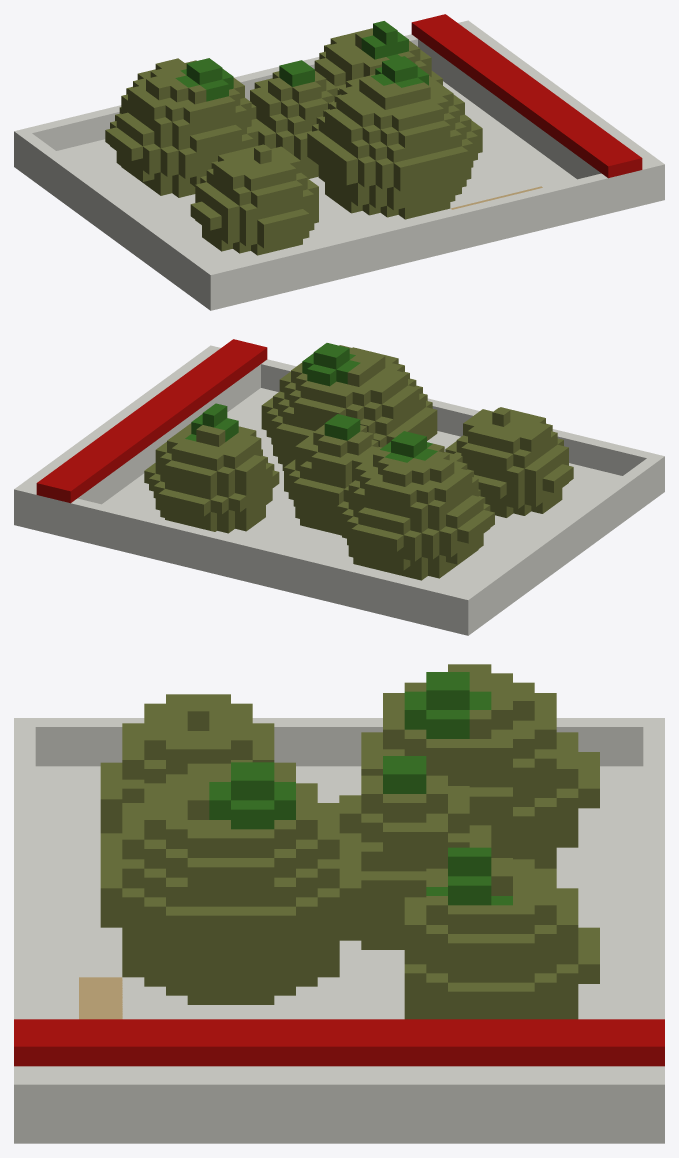
Rendered from cannabis.glb.
3 renders of one model, top to bottom at view 1: azimuth 30°, elevation 25°; view 2: azimuth 150°, elevation 25°; view 3: azimuth 270°, elevation 25°, orthographic. The views are drawn at different scales.
Parts seen in each view (by area): view 1: cannabis:compound; view 2: cannabis:compound; view 3: cannabis:compound.
Part boxes in pixels (x1,y1,x2,y2): cannabis:compound: (14,14,664,310); cannabis:compound: (14,339,664,635); cannabis:compound: (14,664,664,1143).
Size of the model in its own units: 0.08 by 0.022 by 0.06.
